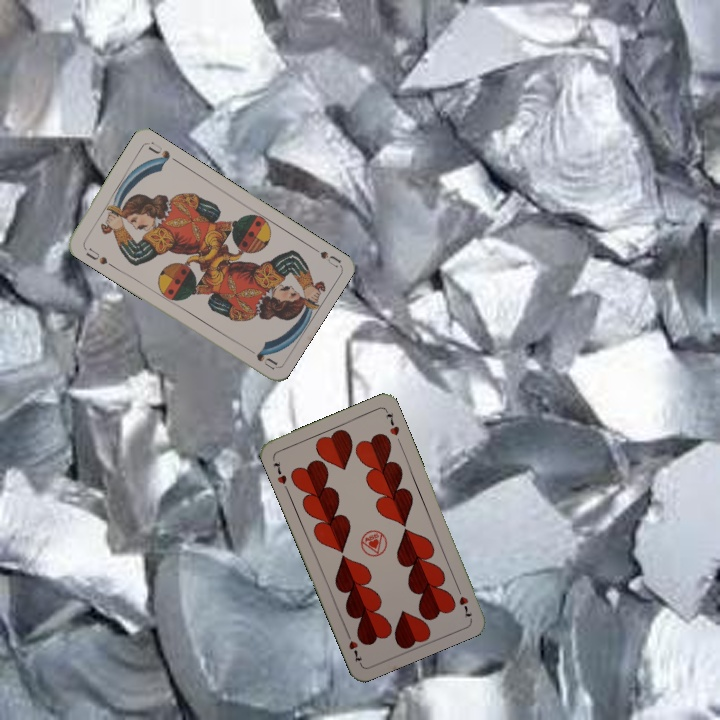H7: (453, 582, 475, 620), (269, 457, 289, 487)
SU: (304, 241, 342, 269), (82, 244, 110, 267)
